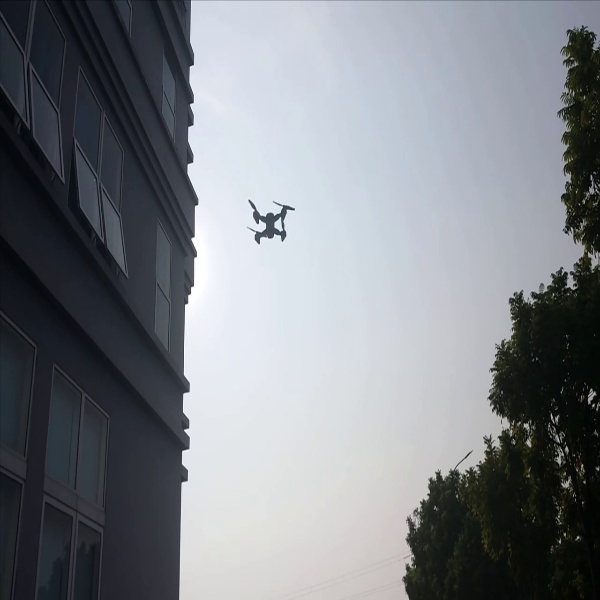drone: (249, 193, 296, 247)
